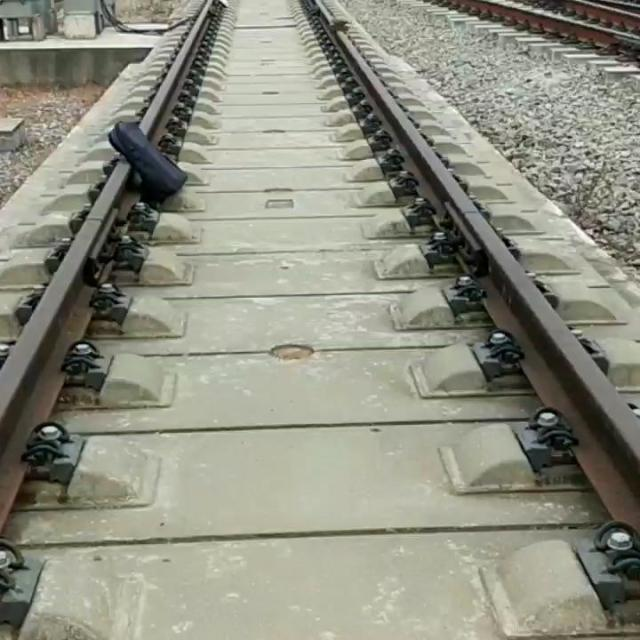rail: (310, 2, 640, 533), (1, 161, 132, 533), (141, 1, 214, 141)
